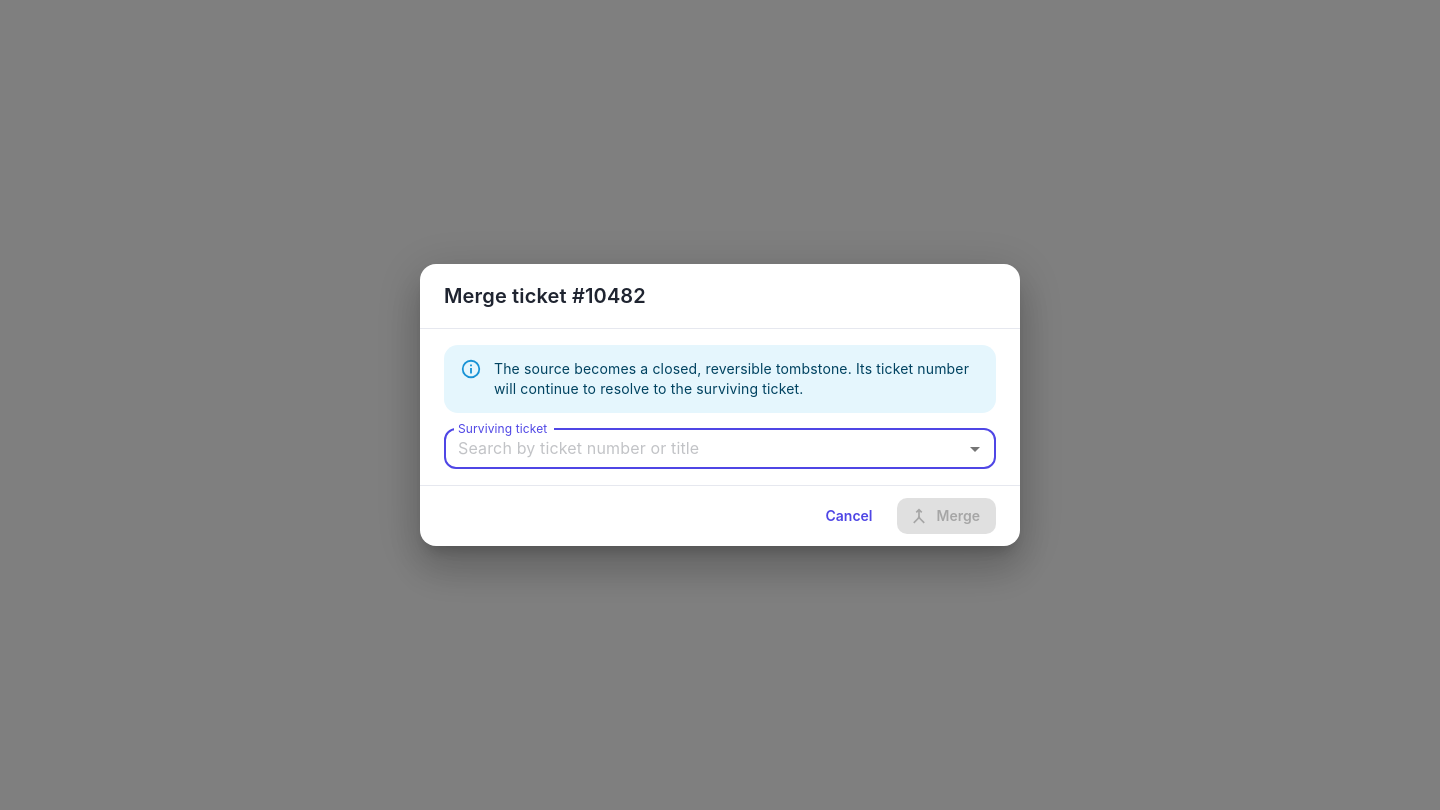
MergeTicketDialog acknowledgement gate › keeps Merge disabled when the preview contains a blocker
In the dropdown labelled "Surviving ticket": (704, 449) left=450, top=435, right=957, bottom=463, type "10479"
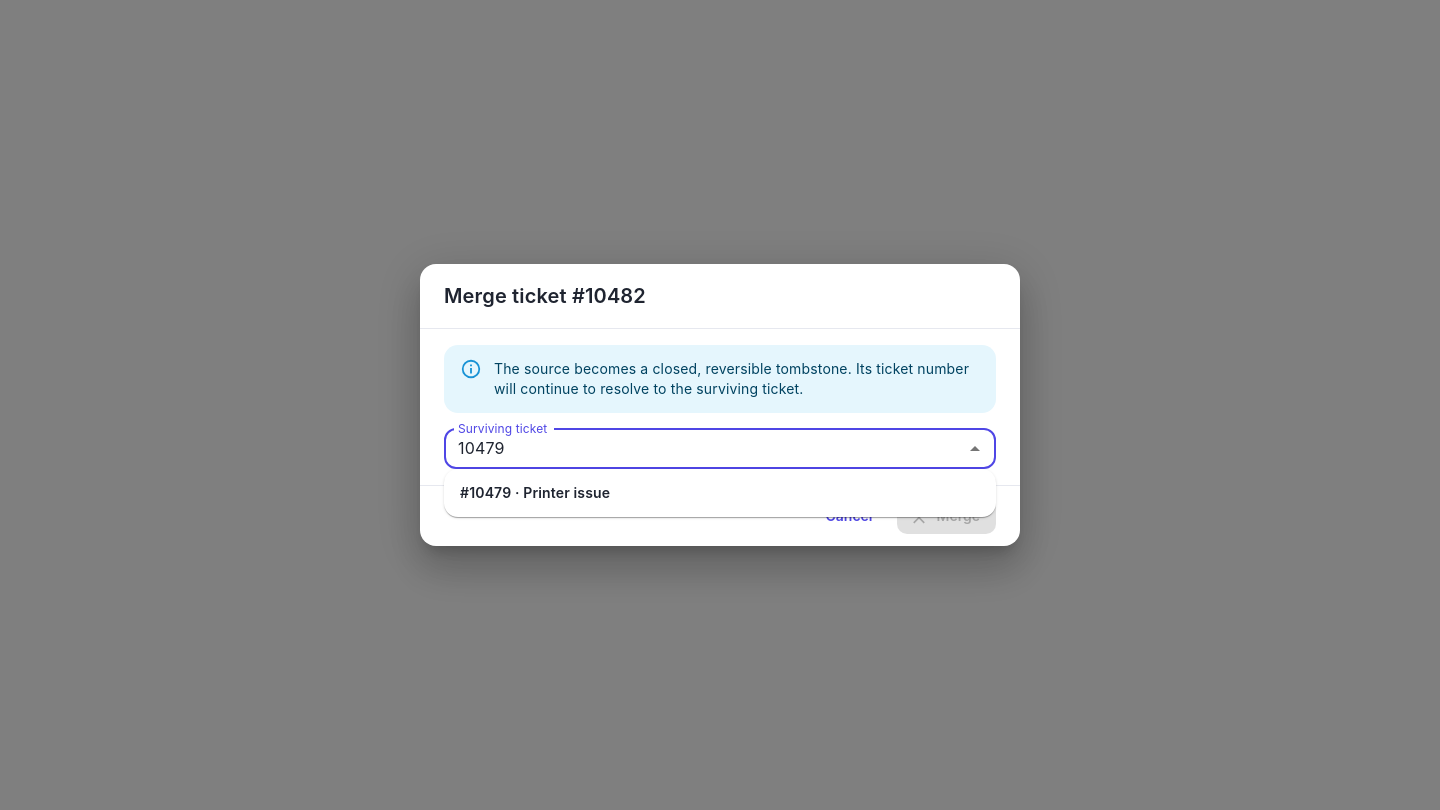
Click the option "#10479 · Printer issue": (535, 492) left=460, top=484, right=610, bottom=501
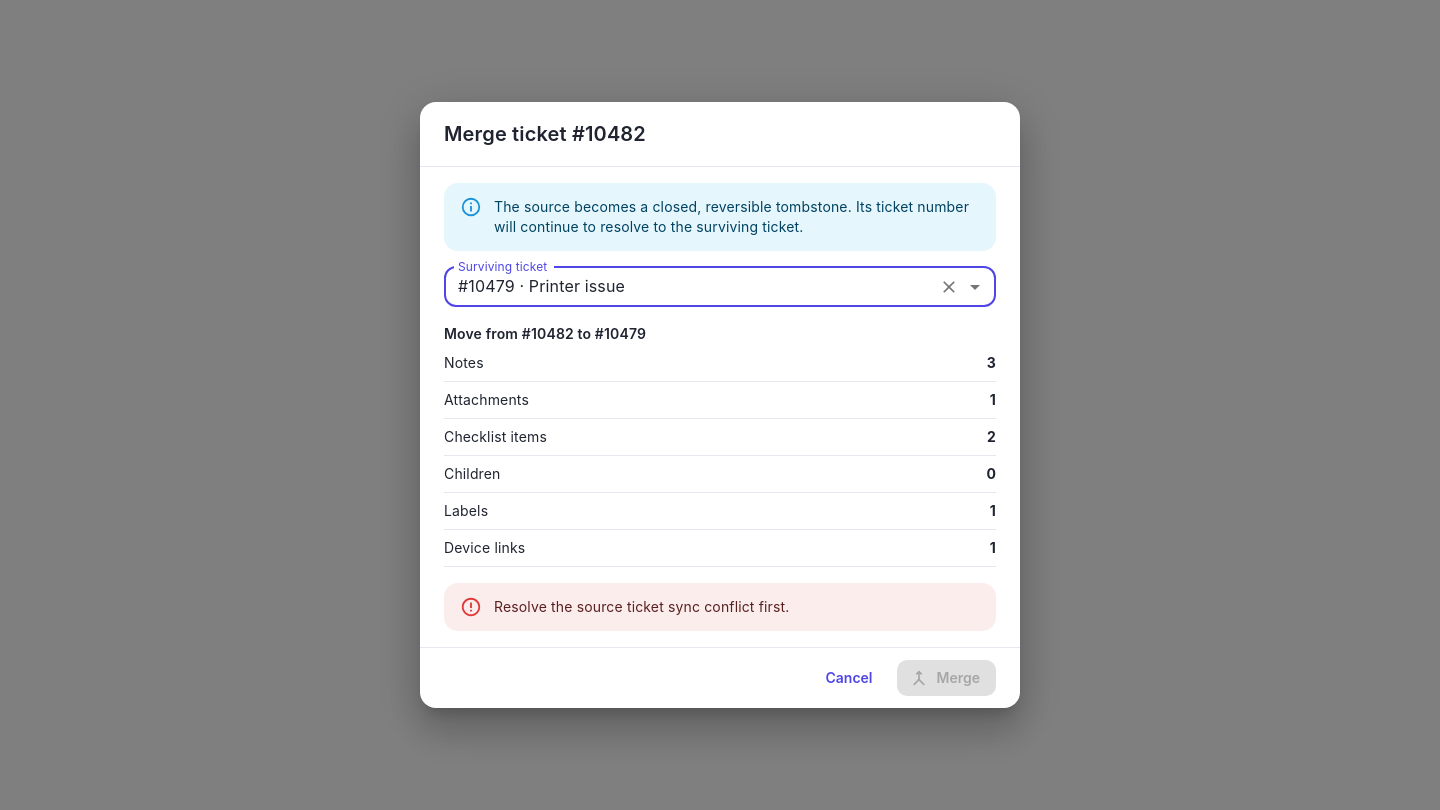
Expected: the button "Merge" is disabled, left=896, top=660, right=996, bottom=696
Now the heading "Move from #10482 to #10479" is shown, box left=444, top=325, right=646, bottom=342
Now the text "Resolve the source ticket sync conflict first." is shown, box left=494, top=598, right=789, bottom=615
